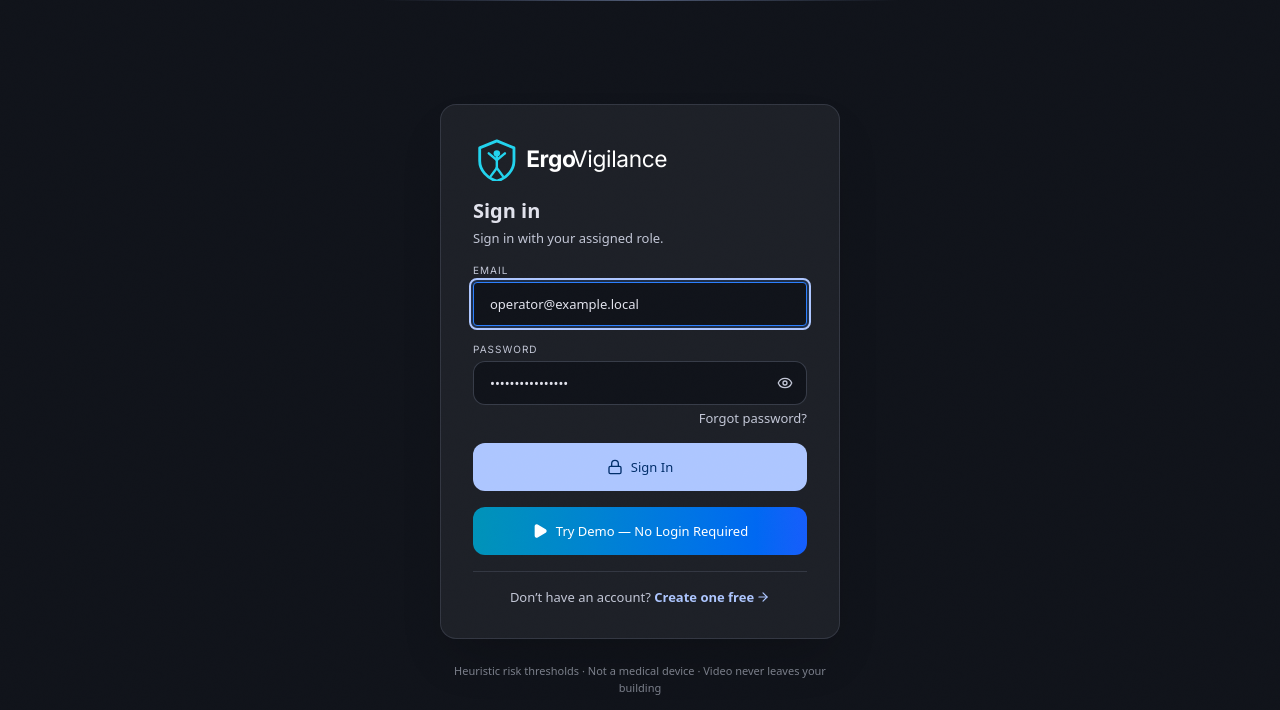
Test case: frontend smoke › renders the login page and signs in to the dashboard
Expected: the heading "Sign in" is shown, [473,197,540,224]
Click the button "Sign In": (640, 467) [473,443,807,491]
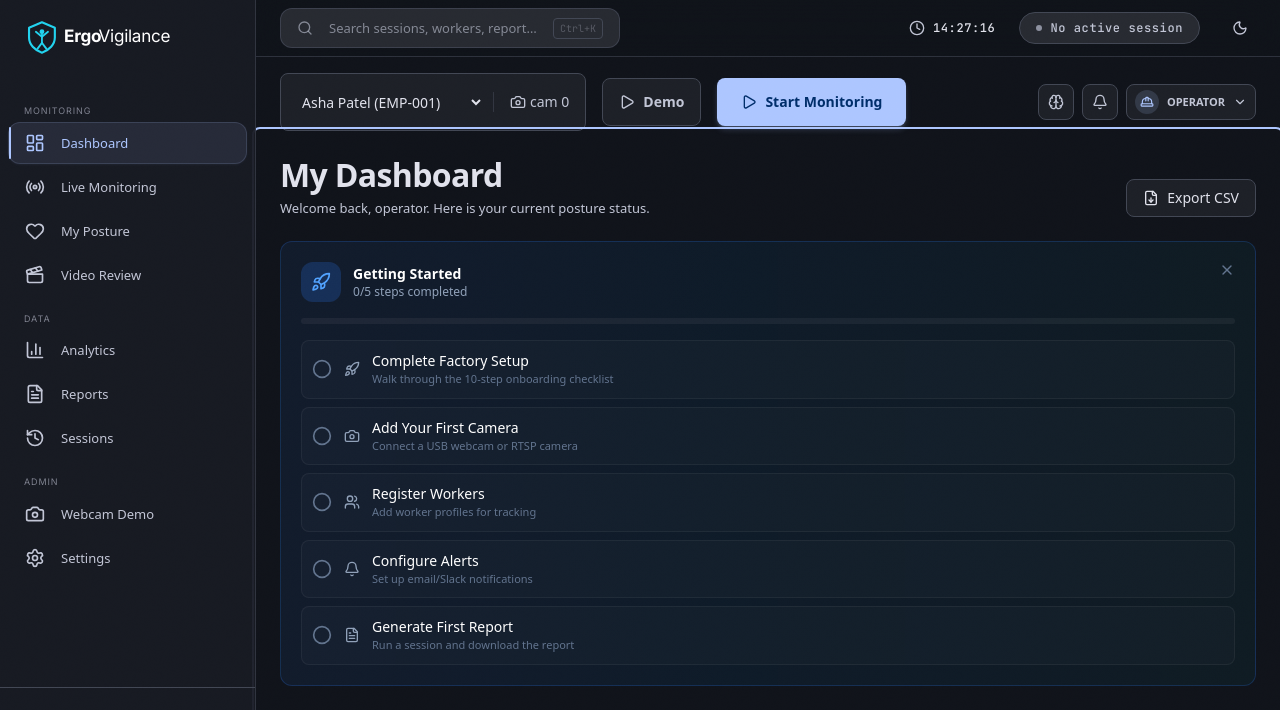
Expected: the heading "My Dashboard" is shown, [280,153,502,196]
